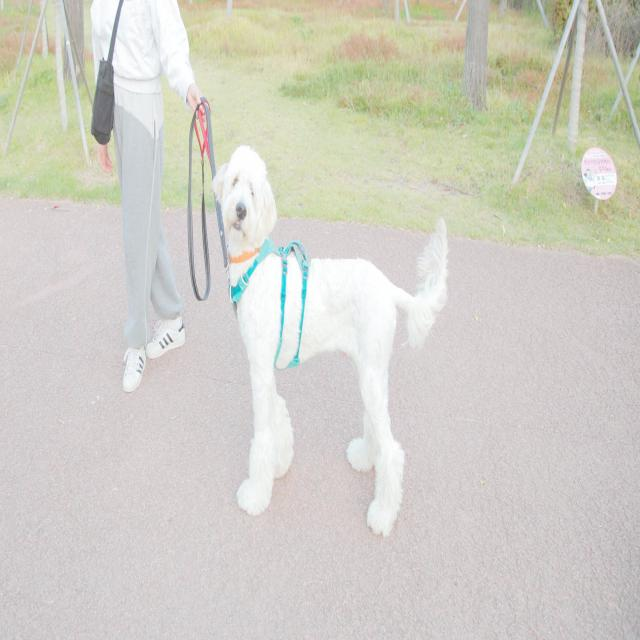Leashed_Dog: (122, 83, 448, 537)
